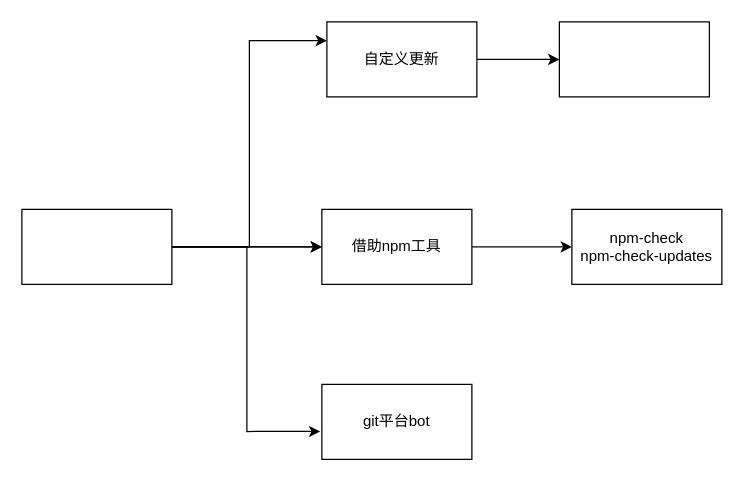
Some shapes in this 744 by 481 pixel diagram are drawn without their labels. Here are the shapes that lost their labels. From the top down, the centre of each, then its label:
[633,59]: npm i -D vue@版本
[96,246]: 更新npm包
